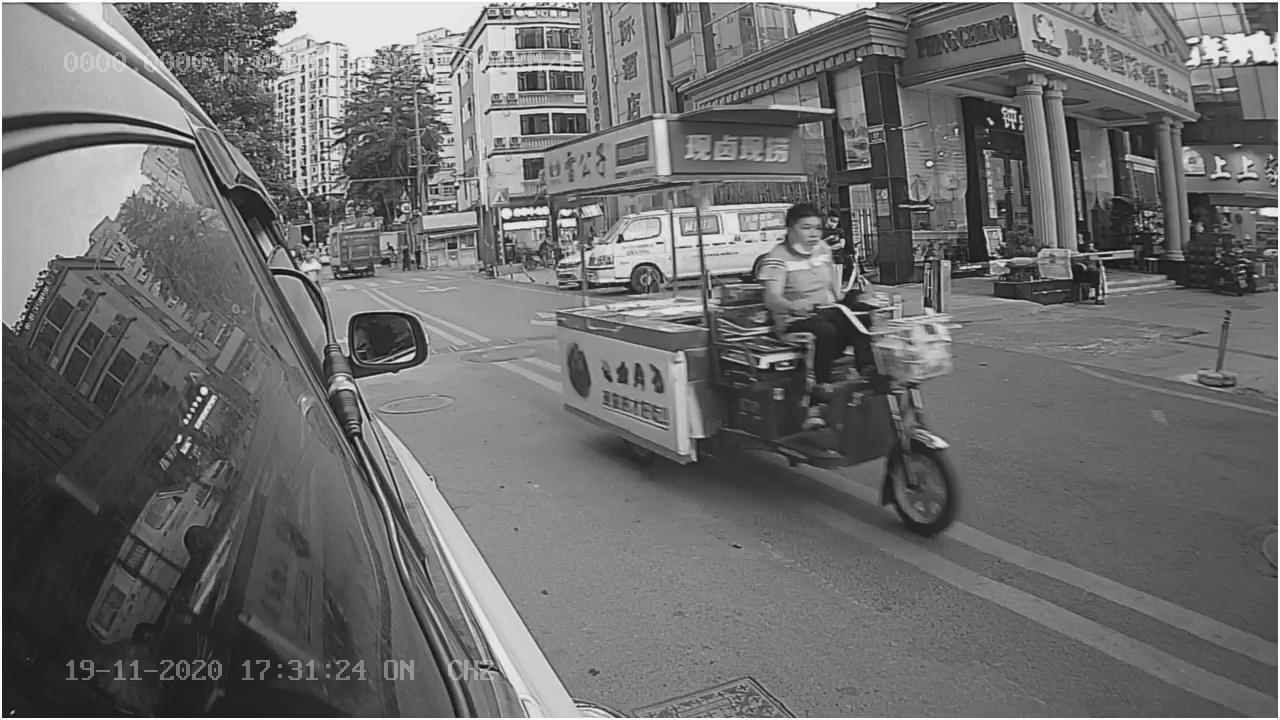person: (758, 204, 837, 314)
